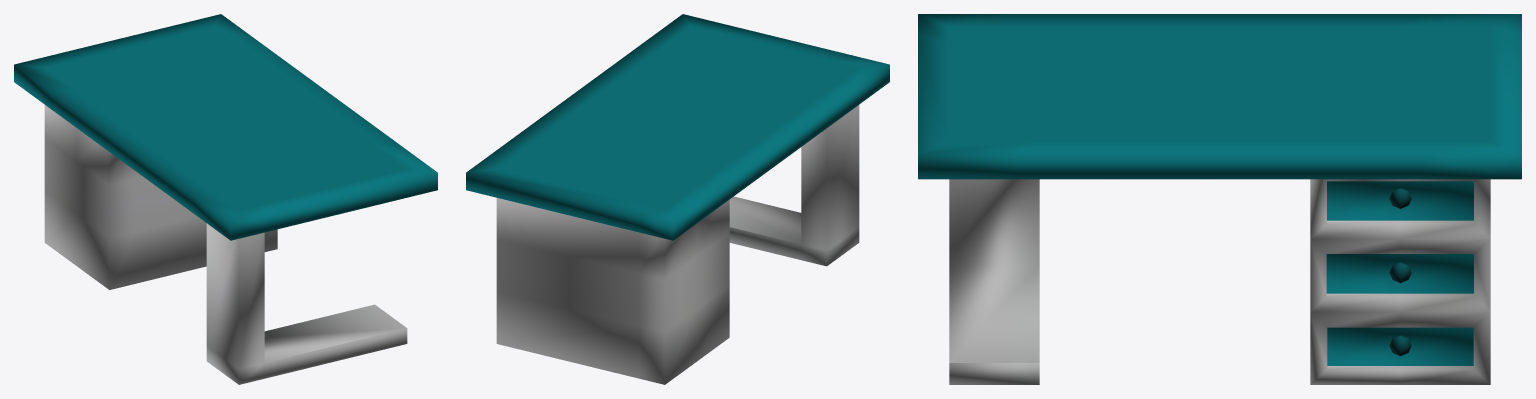
The model's file is MesaAbertaBio.fbx.
3 renders of one model, left to right at view 1: azimuth 30°, elevation 25°; view 2: azimuth 150°, elevation 25°; view 3: azimuth 270°, elevation 25°, orthographic. The views are drawn at different scales.
Visible parts, largest first — view 1: MesaAbertaBio; view 2: MesaAbertaBio; view 3: MesaAbertaBio.
Boxes of the visible parts, left/top/right/bottom form: MesaAbertaBio: left=14, top=14, right=437, bottom=384; MesaAbertaBio: left=466, top=14, right=889, bottom=384; MesaAbertaBio: left=918, top=14, right=1521, bottom=384.
Bounding box in the file's own units: 54.77 × 44.16 × 99.26.
1 material, 1 textured.
